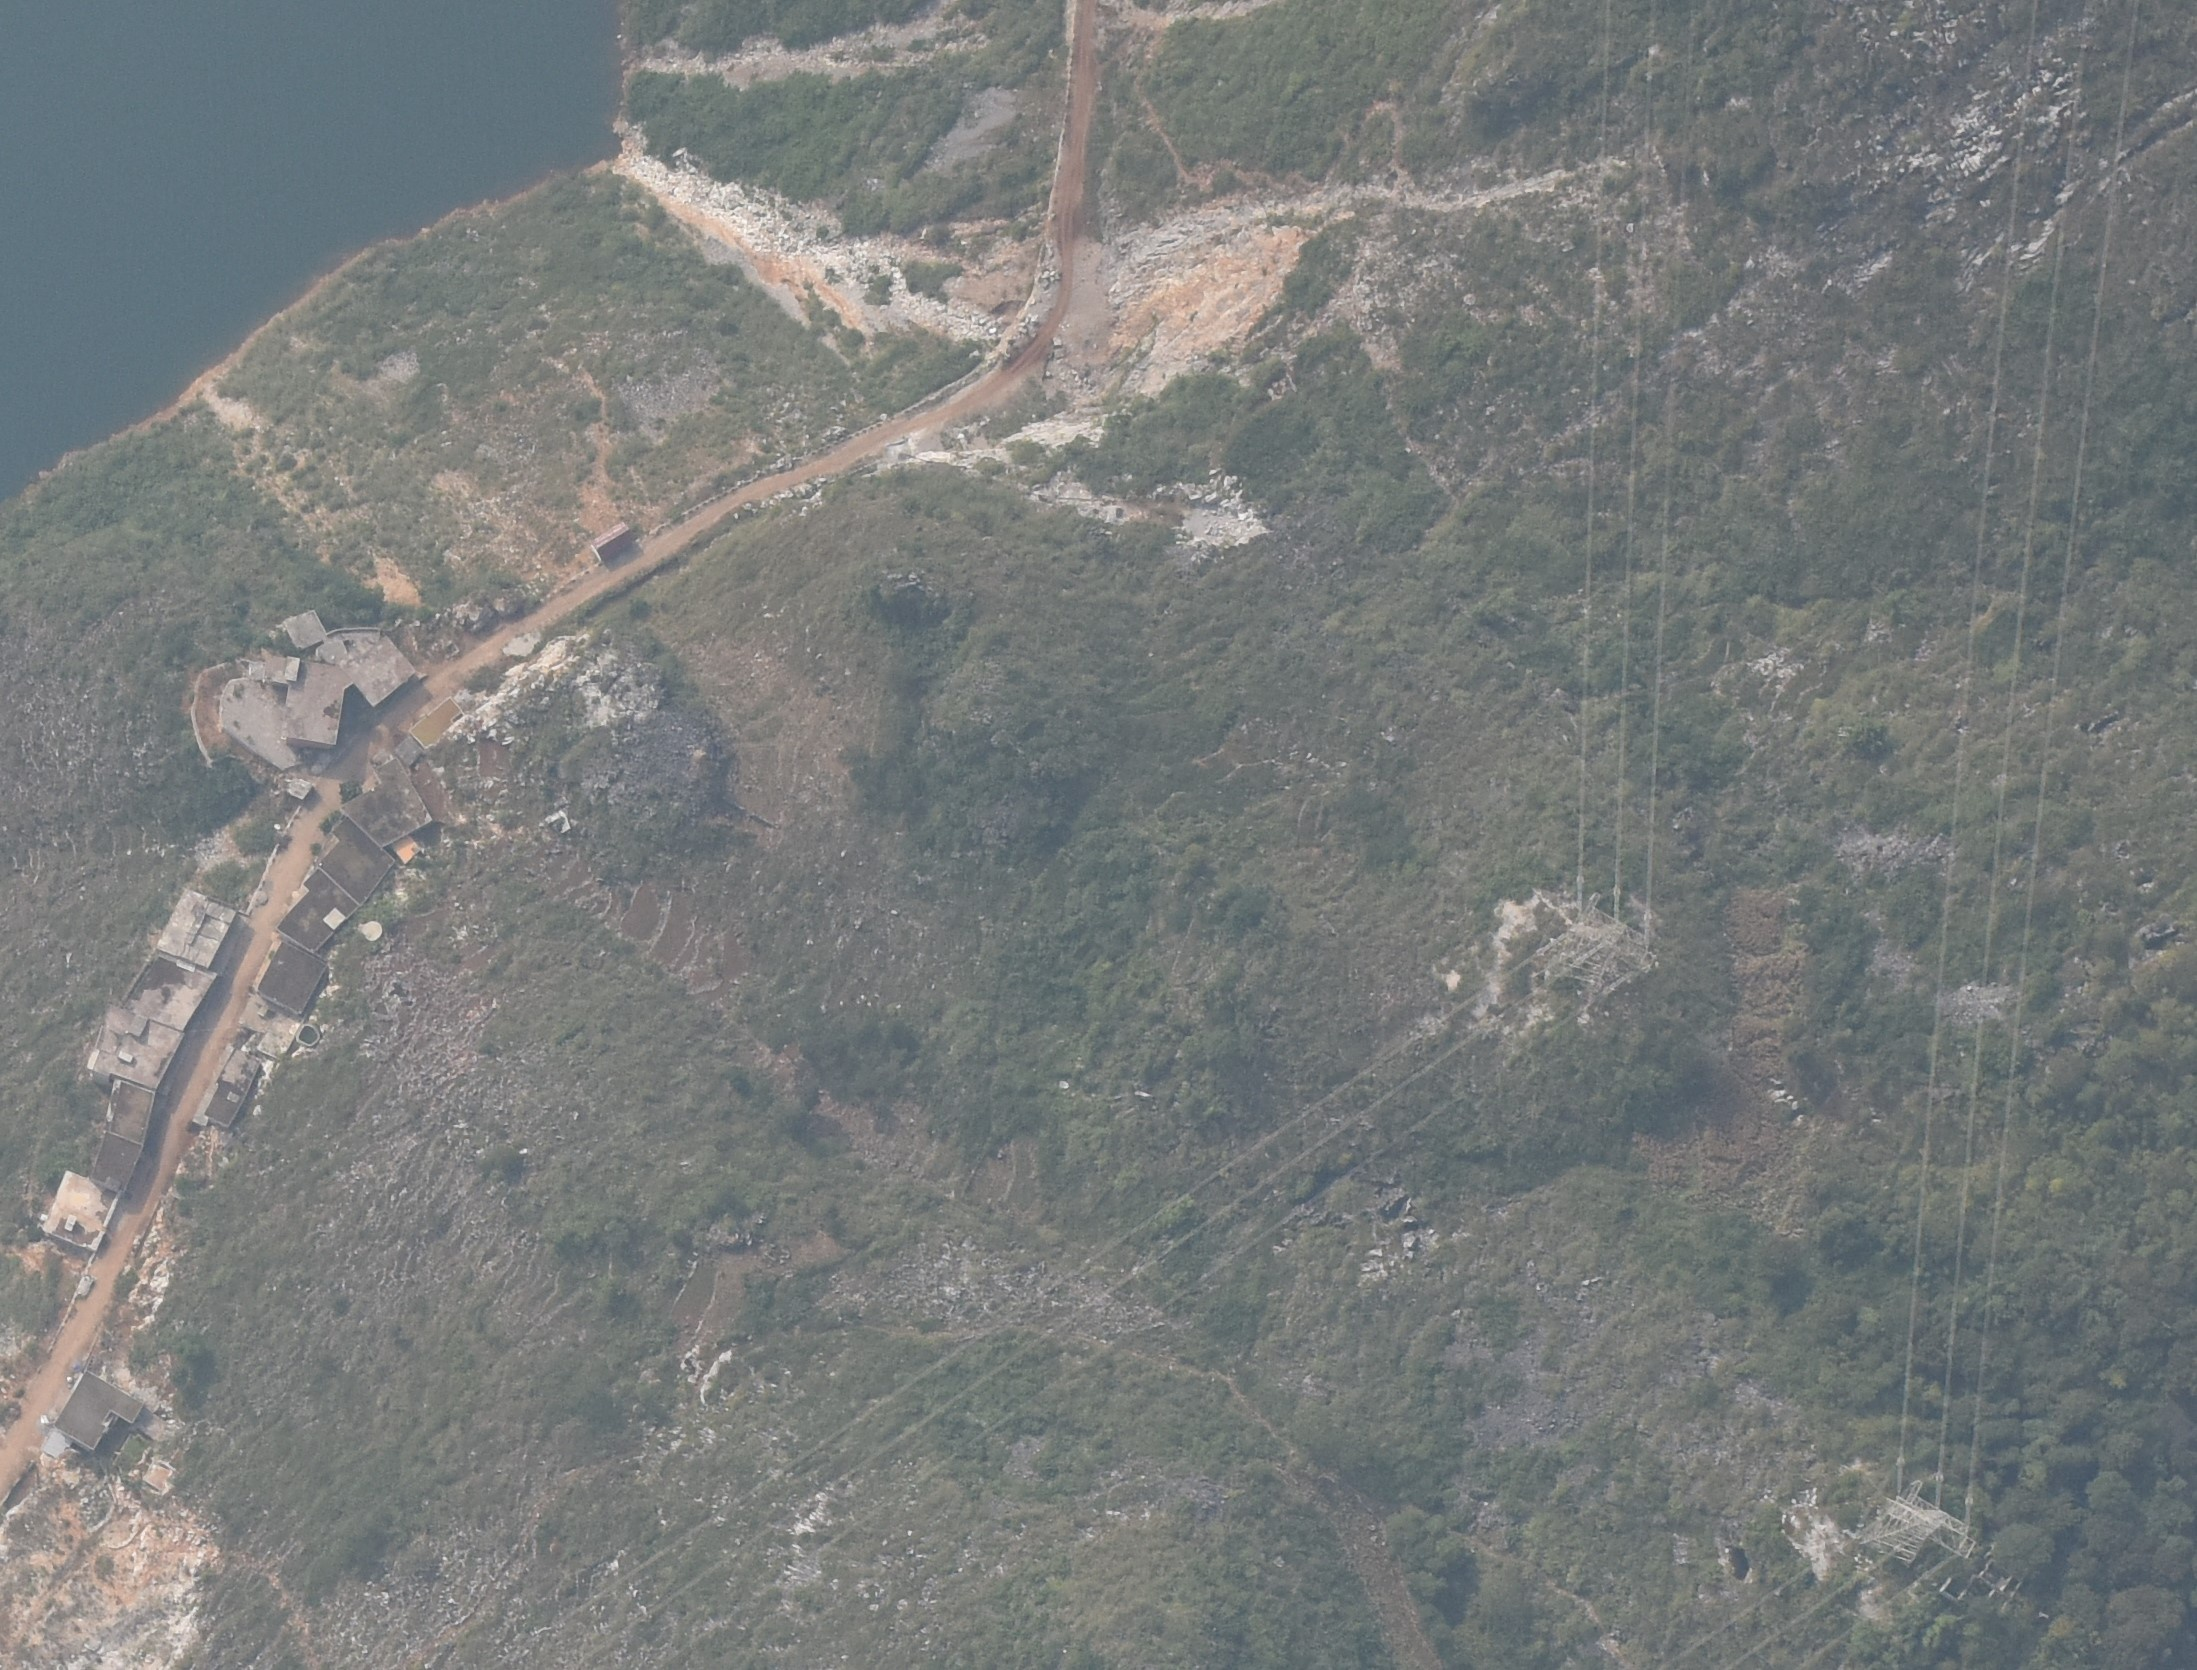building: (265, 610, 421, 742), (88, 1003, 186, 1093), (117, 951, 219, 1033), (338, 760, 431, 847), (53, 1372, 146, 1452), (319, 812, 395, 909), (277, 868, 359, 956), (154, 891, 237, 968), (39, 1170, 117, 1249), (252, 940, 326, 1016), (189, 1046, 258, 1126), (89, 1133, 144, 1193), (105, 1079, 153, 1145), (407, 696, 465, 751), (589, 519, 642, 563), (393, 735, 424, 767)
cable-tower: (1529, 889, 1662, 1000), (1852, 1479, 1981, 1568)
landslide: (608, 133, 1013, 356), (1105, 188, 1320, 388)
well: (295, 1023, 323, 1049), (361, 917, 386, 942)
